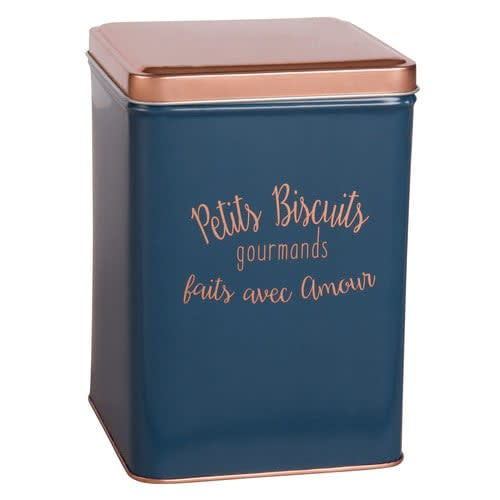metal: (83, 16, 420, 485)
